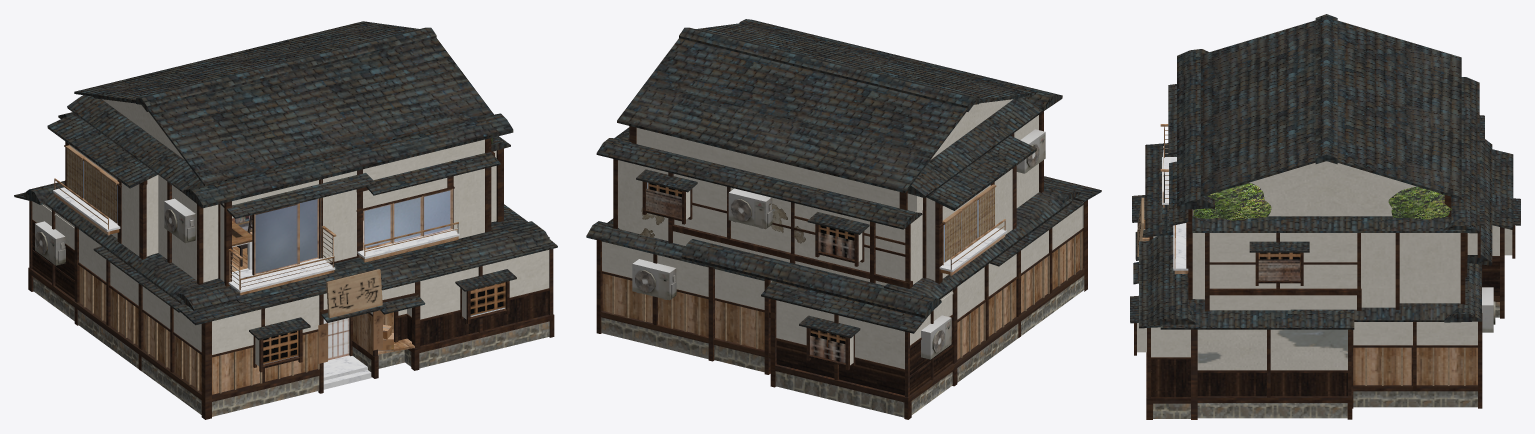
Rendered from House03.fbx.
The picture shows the model from 3 angles, left to right: view 1: azimuth 30°, elevation 25°; view 2: azimuth 150°, elevation 25°; view 3: azimuth 270°, elevation 25°; orthographic projection.
Visible parts, largest first — view 1: House03; view 2: House03, foliage; view 3: House03, foliage.
Part boxes in pixels (x1=…): House03: x1=14, y1=21, x2=557, y2=419; House03: x1=586, y1=19, x2=1101, y2=419; foliage: x1=629, y1=133, x2=805, y2=243; House03: x1=1130, y1=14, x2=1520, y2=419; foliage: x1=1193, y1=183, x2=1451, y2=220.
Bounding box in the file's own units: 1118 × 744 × 1050.
3 materials, 3 textured.
